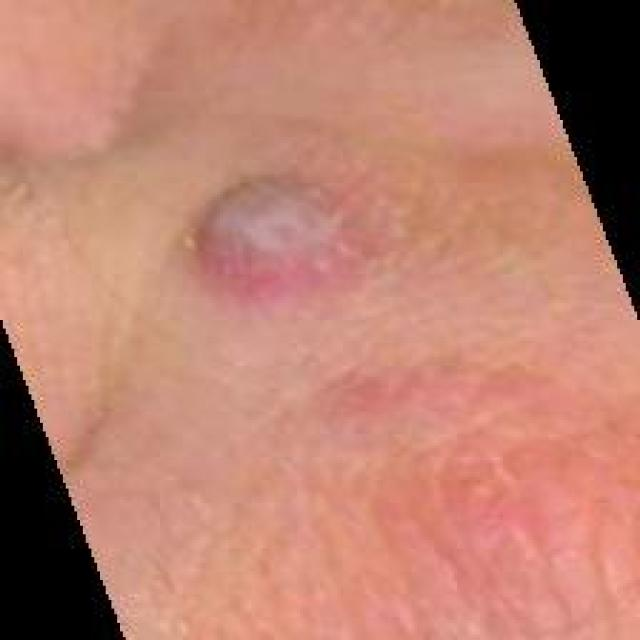monkeypox: (72, 101, 586, 628)
